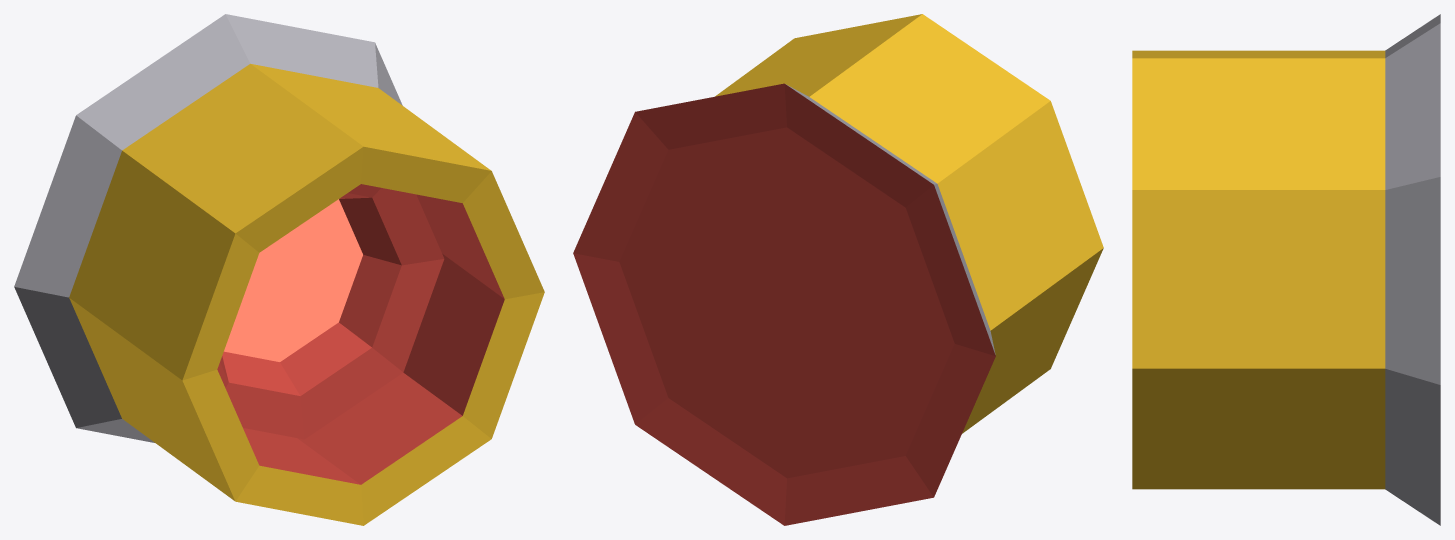
Rendered from FireNozzel.fbx.
3 views of the same model, side by side, from view 1: azimuth 30°, elevation 25°; view 2: azimuth 150°, elevation 25°; view 3: azimuth 270°, elevation 25° (orthographic). The views are drawn at different scales.
Parts seen in each view (by area): view 1: Cylinder.009; view 2: Cylinder.009; view 3: Cylinder.009.
Part boxes in pixels (left/top/right/bottom): Cylinder.009: left=14, top=14, right=544, bottom=525; Cylinder.009: left=573, top=14, right=1103, bottom=525; Cylinder.009: left=1132, top=14, right=1440, bottom=525.
Size of the model in its own units: 165 by 165 by 93.48.
